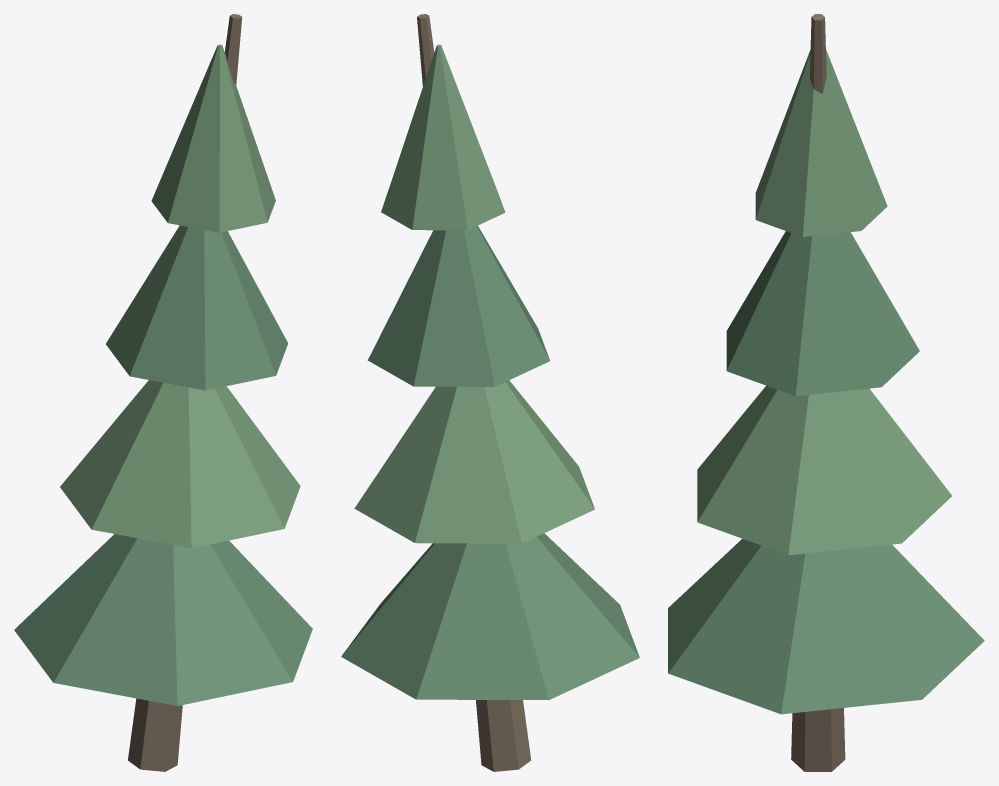
The model's file is pine_v39.glb.
3 renders of one model, left to right at view 1: azimuth 30°, elevation 25°; view 2: azimuth 150°, elevation 25°; view 3: azimuth 270°, elevation 25°, orthographic. The views are drawn at different scales.
Visible parts, largest first — view 1: lod0; view 2: lod0; view 3: lod0.
Boxes of the visible parts, x1,y1,x2,y2 form: lod0: (14, 14, 312, 771); lod0: (341, 14, 639, 771); lod0: (668, 14, 984, 771).
Size of what is drawn, in the model's own units: 2.39 by 6.43 by 2.34.
